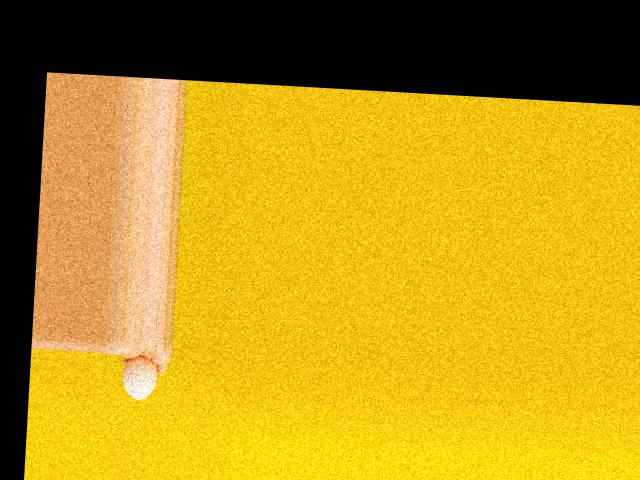egg: (122, 355, 158, 400)
